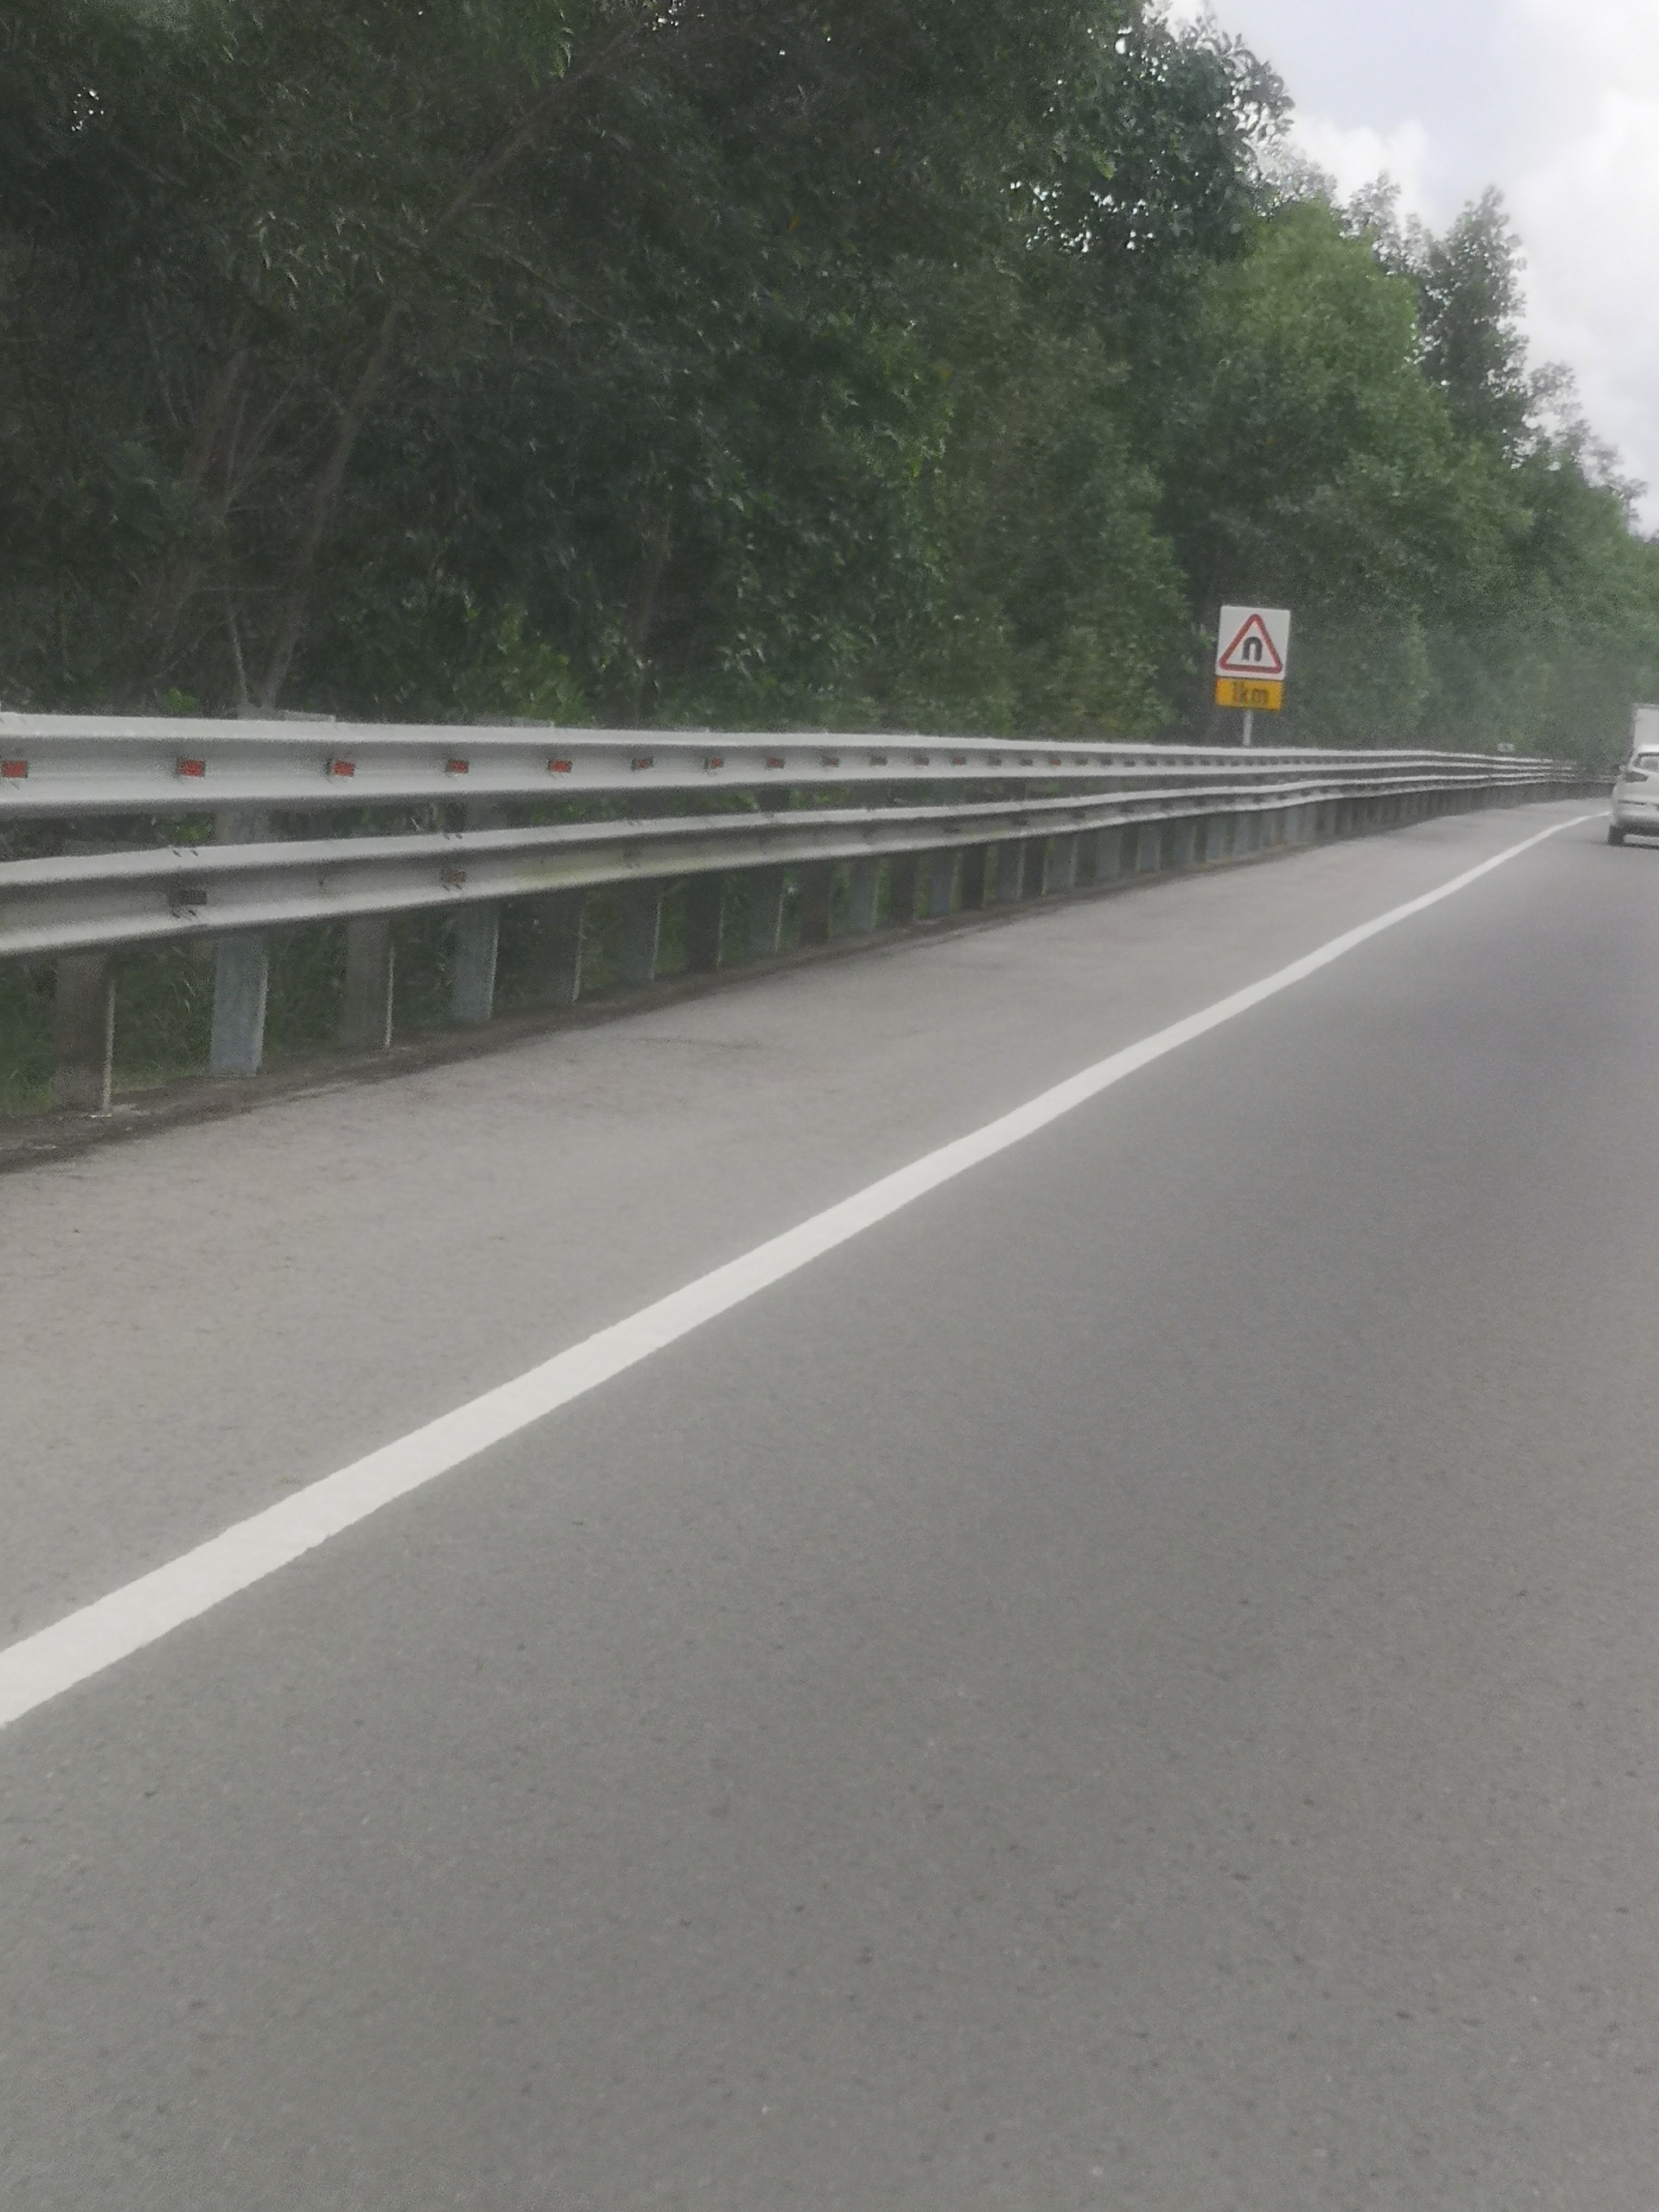U-turn: (1215, 601, 1295, 686)
